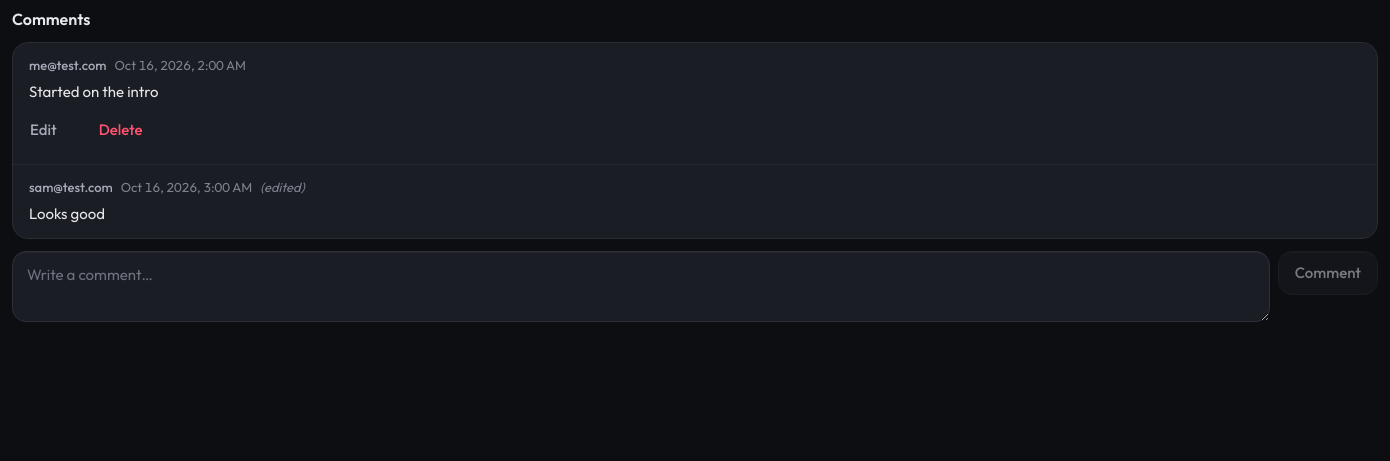
Test: Comments › adds a comment at the bottom
Check: the text "Looks good" is shown, box [29, 204, 105, 223]
In the text box named "New comment": [641, 286] box [12, 251, 1270, 322], type "Done with the intro"
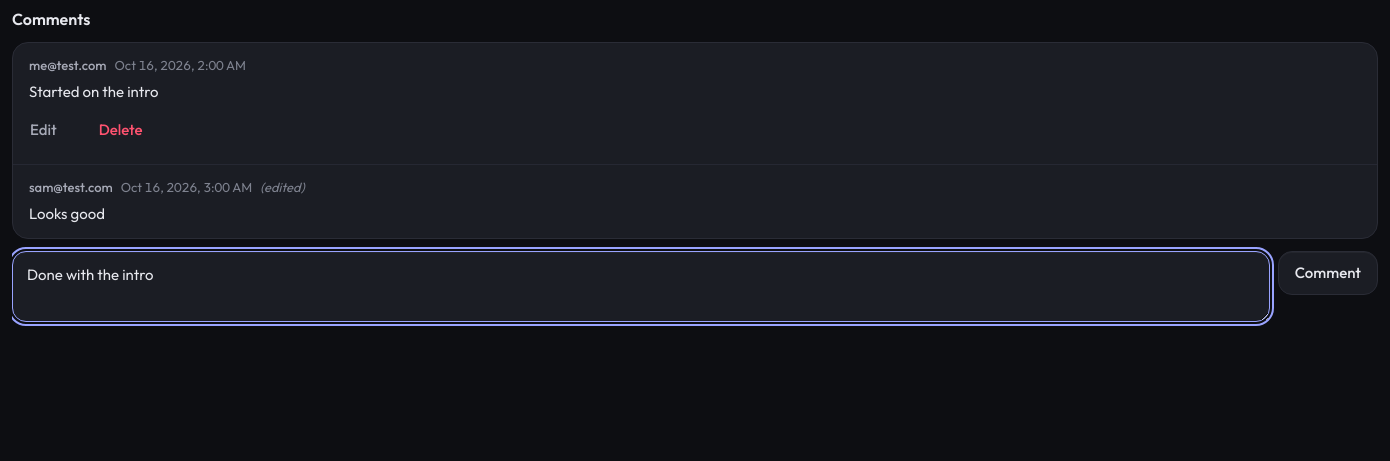
Click the button "Comment": [1328, 273] box [1278, 251, 1378, 295]
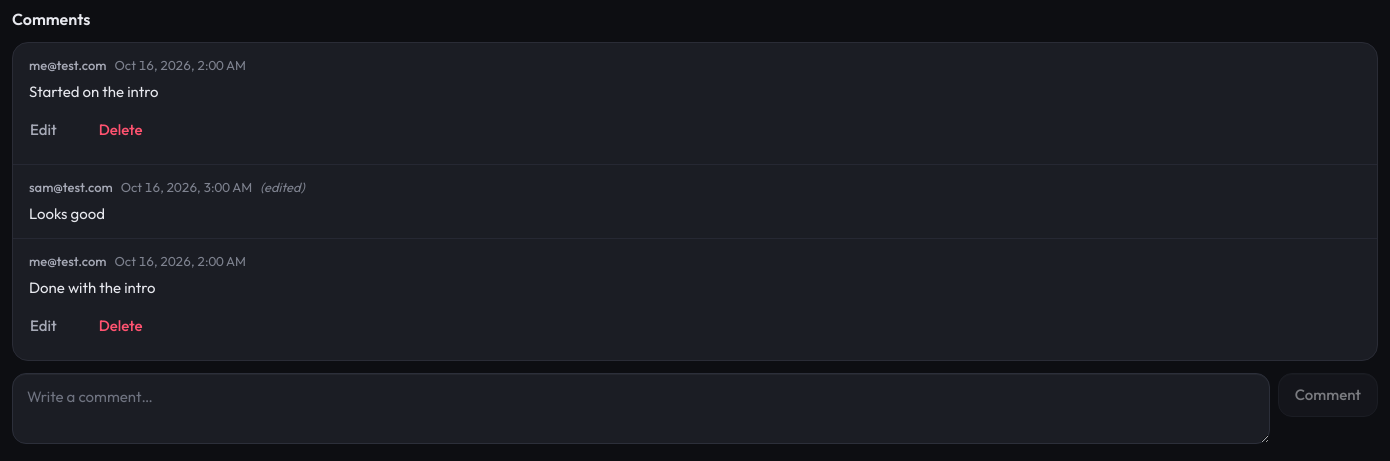
Check: the 3rd list item shows "Done with the intro", box [29, 278, 156, 297]
Check: the text box named "New comment" is empty, box [12, 373, 1270, 444]
